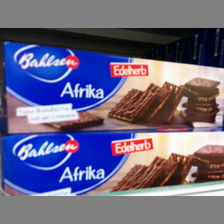chocolate: (2, 40, 224, 133), (1, 134, 224, 196)
